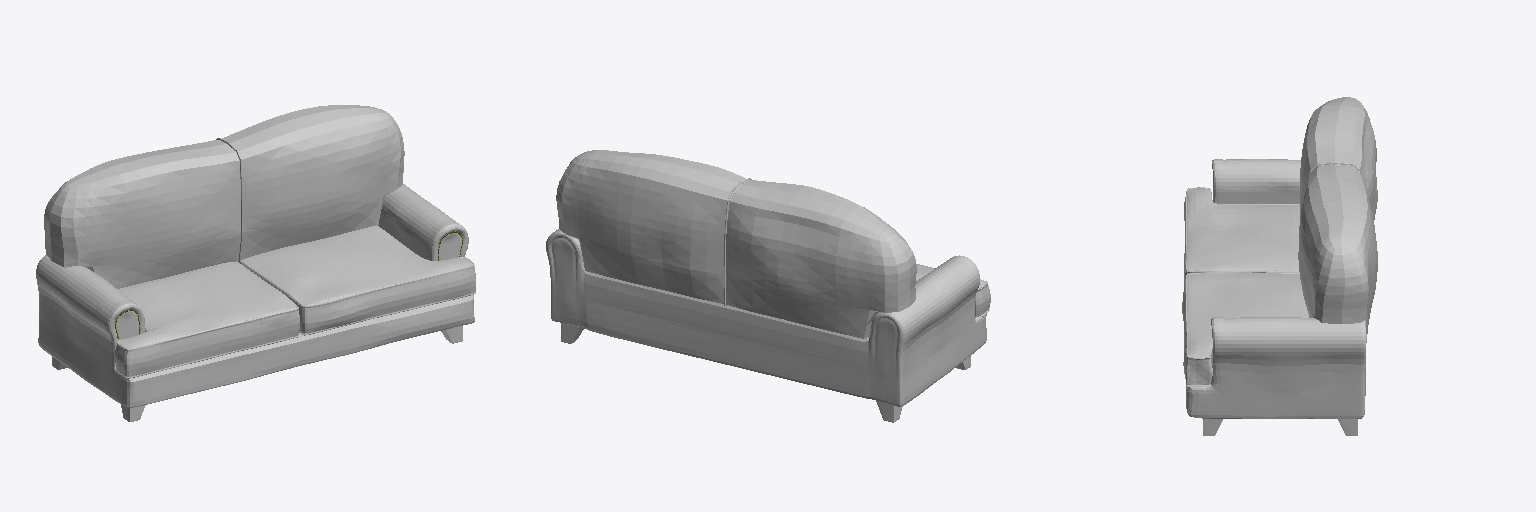
Rendered from Leather_sofa.obj.
3 renders of one model, left to right at view 1: azimuth 30°, elevation 25°; view 2: azimuth 150°, elevation 25°; view 3: azimuth 270°, elevation 25°, orthographic.
Parts seen in each view (by area): view 1: tack2.091_Sphere.099; view 2: tack2.091_Sphere.099; view 3: tack2.091_Sphere.099.
Boxes of the visible parts, x1=… form: tack2.091_Sphere.099: x1=36, y1=105, x2=475, y2=421; tack2.091_Sphere.099: x1=546, y1=150, x2=990, y2=422; tack2.091_Sphere.099: x1=1182, y1=97, x2=1377, y2=435.
Bounding box in the file's own units: 1.92 × 1 × 0.9031.